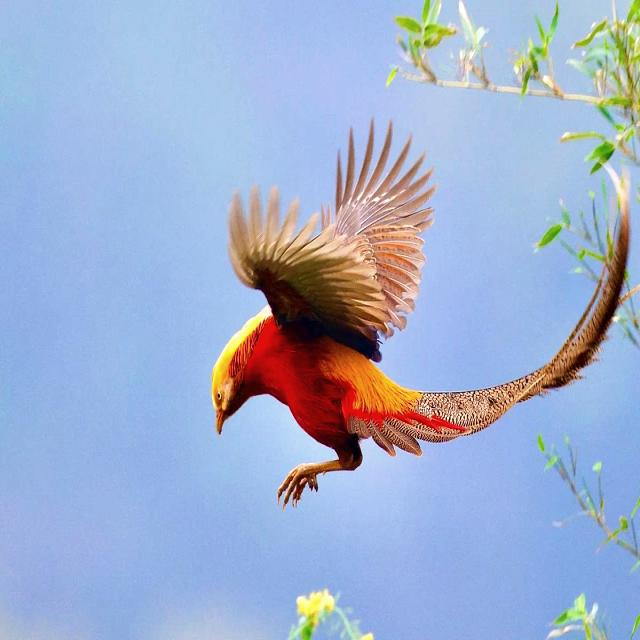Chrysolophus pictus feather: (386, 155, 631, 443)
